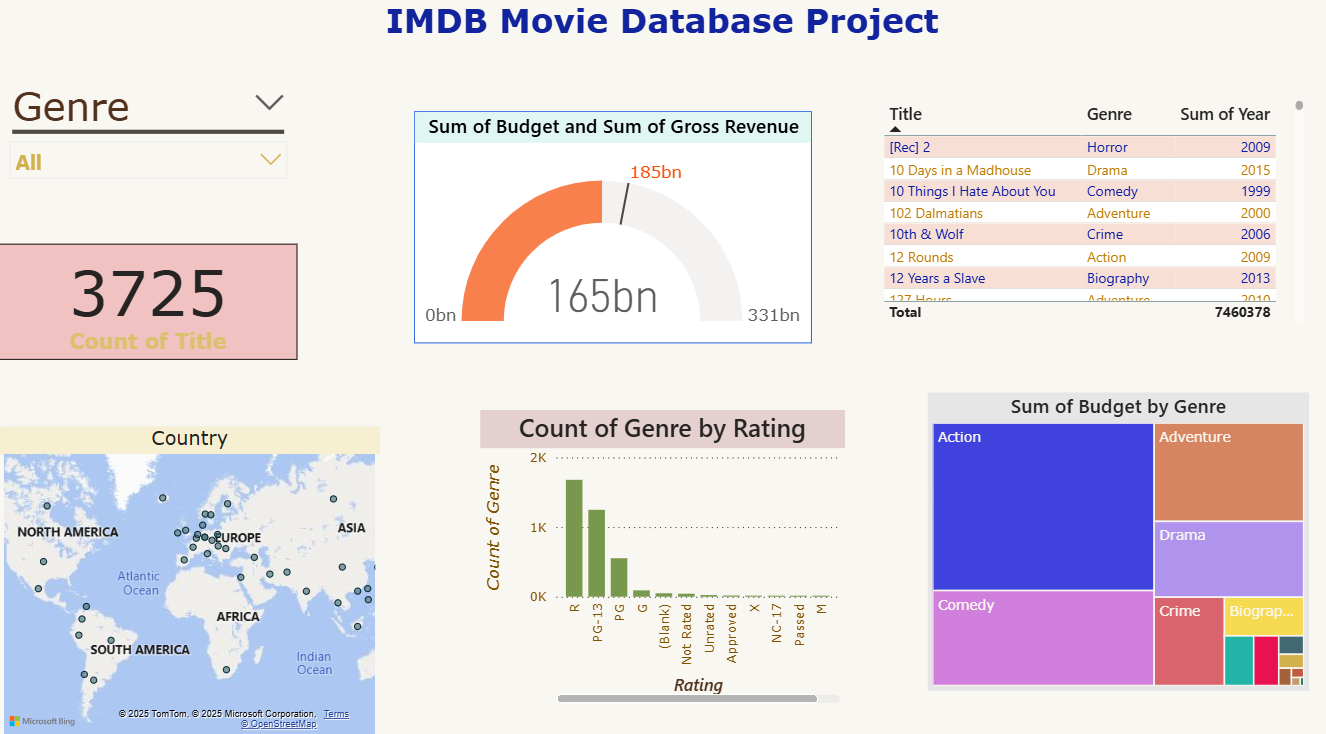

What the dashboard file says about the page in this screenshot:
{"tool":"powerbi","page":{"name":"Page 1","canvas":[1280,720],"ordinal":0},"visuals":[{"type":"tableEx","fields":{"Values":["IMDb Movie Database.Title","IMDb Movie Database.Genre","Sum(IMDb Movie Database.Year)"]},"box":[848,96,416,224],"z":0},{"type":"textbox","box":[0,0,1280,64],"z":1000},{"type":"clusteredColumnChart","fields":{"Category":["IMDb Movie Database.Rating"],"Y":["CountNonNull(IMDb Movie Database.Genre)"]},"box":[464,400,352,288],"z":2000},{"type":"treemap","fields":{"Values":["Sum(IMDb Movie Database.Budget)"],"Group":["IMDb Movie Database.Genre"]},"box":[896,384,368,288],"z":3000},{"type":"map","fields":{"Category":["IMDb Movie Database.Country"]},"box":[0,416,368,304],"z":4000},{"type":"slicer","fields":{"Values":["IMDb Movie Database.Genre"]},"box":[0,80,288,128],"z":5000},{"type":"gauge","fields":{"Y":["Sum(IMDb Movie Database.Budget)"],"TargetValue":["Sum(IMDb Movie Database.Gross Revenue)"]},"box":[400,112,384,224],"z":6000},{"type":"card","fields":{"Values":["Count(IMDb Movie Database.Title)"]},"box":[0,240,288,112],"z":7000}]}

Visuals, with their boxes in screenshot pixels (x1, y1, x2, y2), scaled from the page's 1280x720 canvas onto the 1326x734 screenshot:
tableEx - IMDb Movie Database.Title x IMDb Movie Database.Genre: box(878, 98, 1309, 326)
textbox: box(0, 0, 1325, 65)
clusteredColumnChart - IMDb Movie Database.Rating x CountNonNull(IMDb Movie Database.Genre): box(481, 408, 845, 701)
treemap - Sum(IMDb Movie Database.Budget) x IMDb Movie Database.Genre: box(928, 391, 1309, 685)
map - IMDb Movie Database.Country: box(0, 424, 381, 733)
slicer - IMDb Movie Database.Genre: box(0, 82, 298, 212)
gauge - Sum(IMDb Movie Database.Budget) x Sum(IMDb Movie Database.Gross Revenue): box(414, 114, 812, 343)
card - Count(IMDb Movie Database.Title): box(0, 245, 298, 359)
